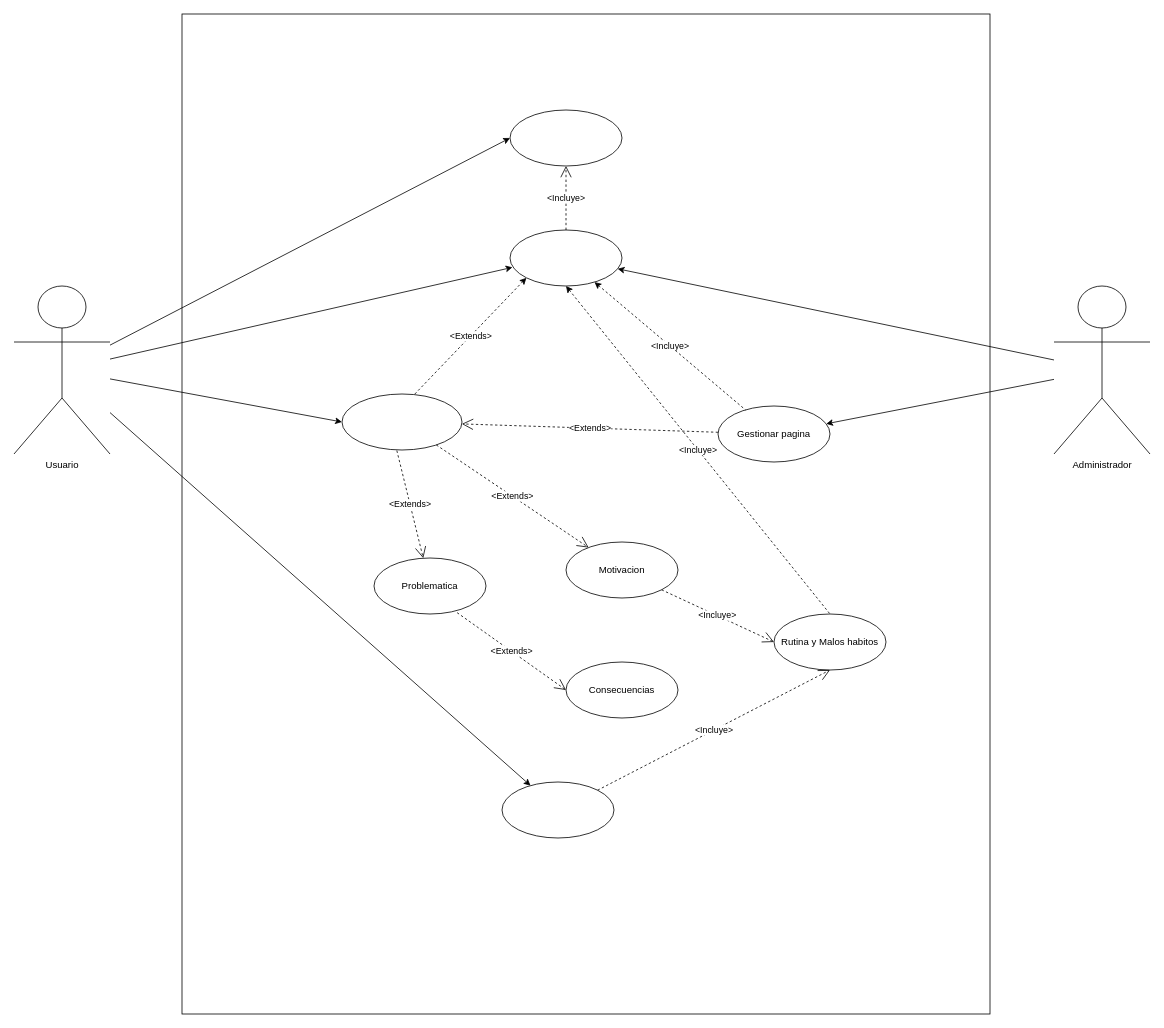
Image size: 1164x1028. Some labels were removed from this diagram. Here are the shapes that lost their labels. From the top down, the centre of each, then its label:
At point 565,137: "Registrase".
At point 565,257: "Iniciar Seccion".
At point 401,421: "Vida Saludable/Información".
At point 557,809: "Ver Mis Estadística".
